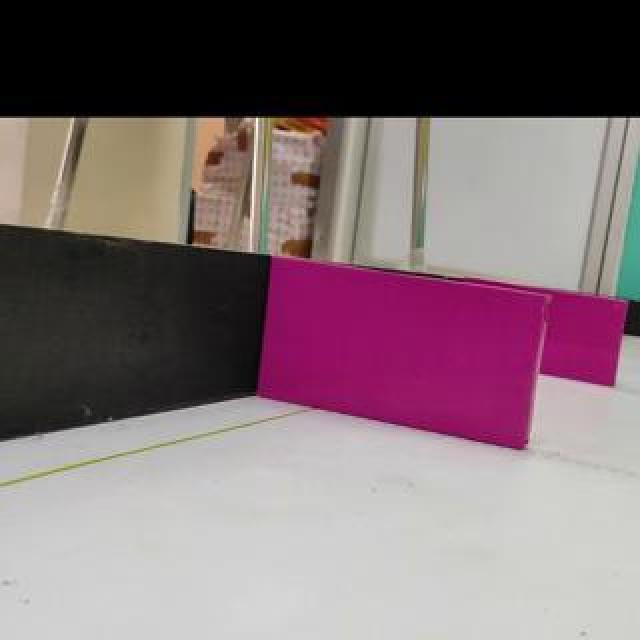xparking: (257, 256, 545, 450), (539, 291, 629, 388)
